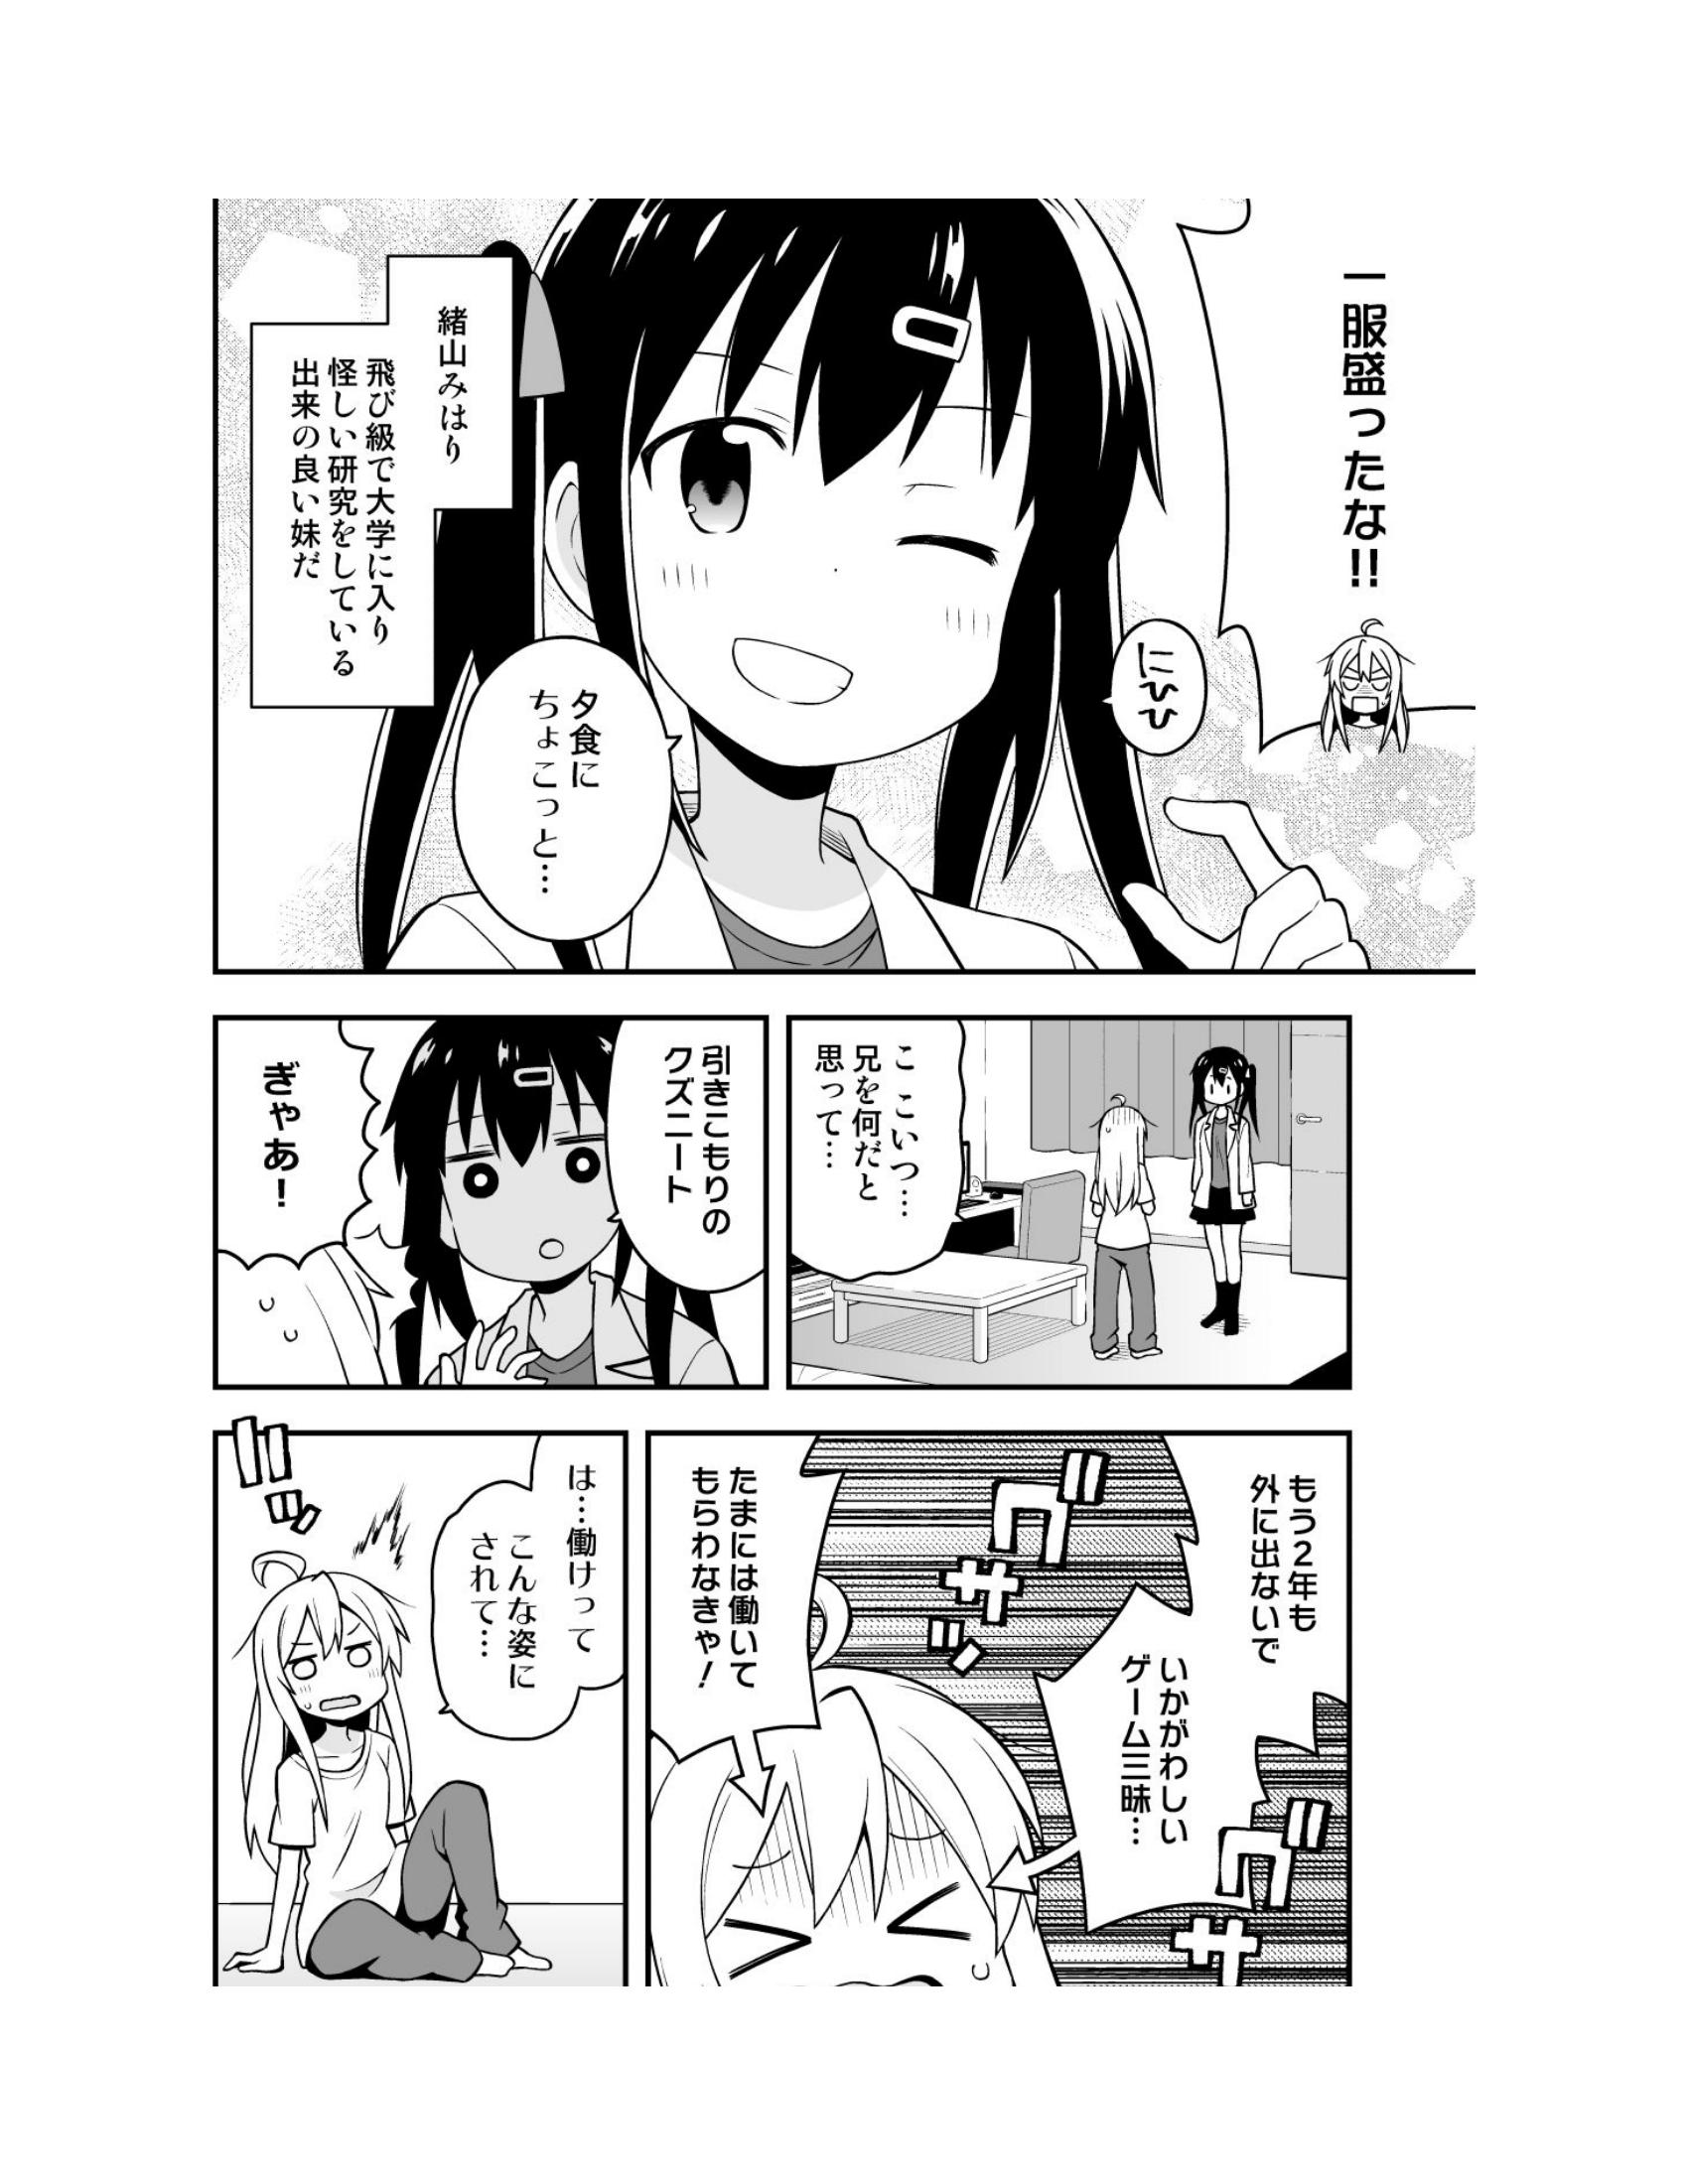a: (1287, 209, 1456, 713), (241, 340, 413, 693), (661, 1427, 830, 1746), (496, 640, 672, 945), (452, 1447, 598, 1730), (1069, 1615, 1231, 1858), (621, 1030, 770, 1269), (223, 1023, 372, 1232), (803, 1019, 920, 1285), (1227, 1427, 1348, 1670), (410, 266, 507, 525), (1115, 610, 1234, 775)
